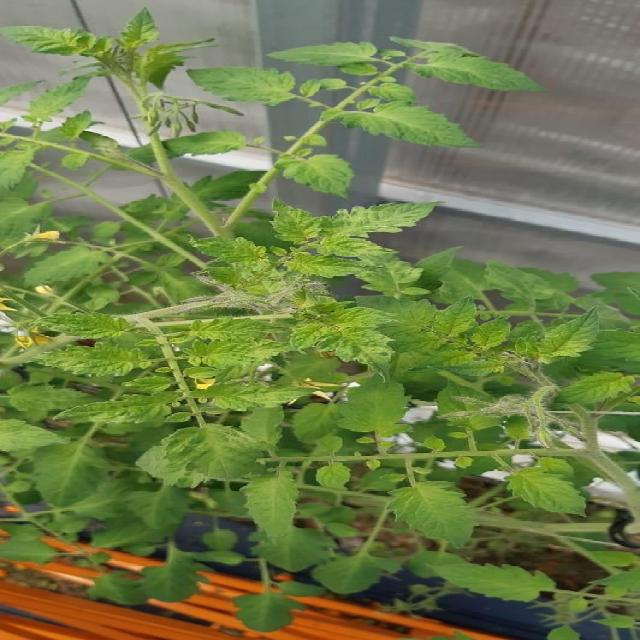T_L_H: (321, 100, 474, 146), (186, 67, 304, 105), (272, 43, 373, 64)
T_L_R: (289, 303, 392, 367), (55, 394, 180, 425), (323, 204, 437, 237), (36, 345, 153, 377), (537, 311, 599, 364), (185, 341, 291, 369), (39, 315, 134, 340), (188, 319, 283, 341), (431, 299, 477, 339)
